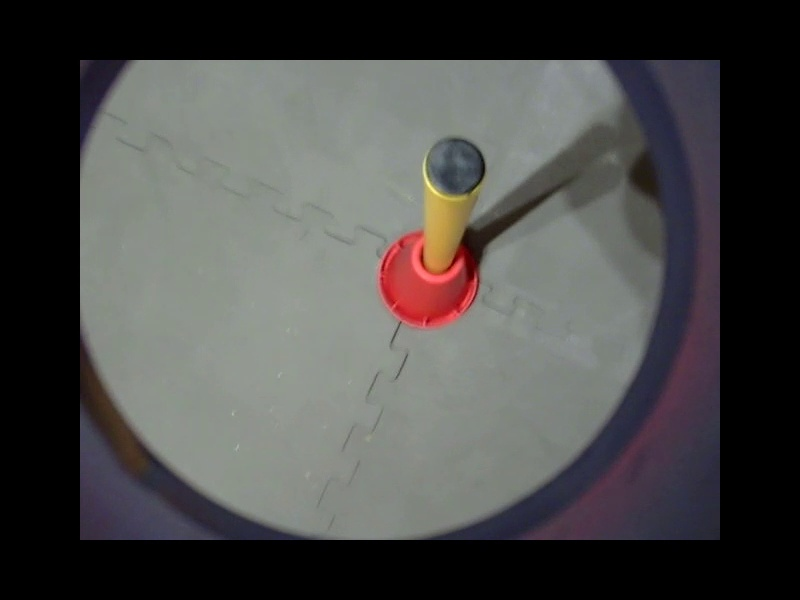tip: (413, 135, 492, 212)
